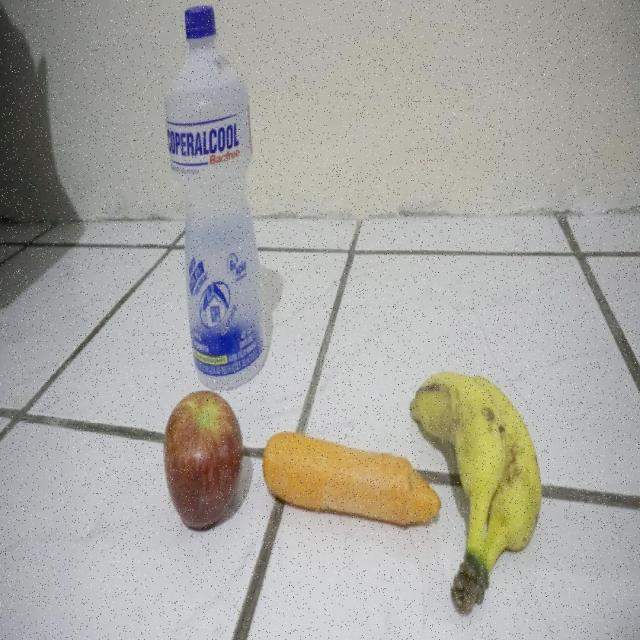AlcoholBottle: (165, 4, 271, 391)
Apple: (156, 394, 246, 532)
Banana: (436, 356, 560, 614)
Carrot: (262, 428, 436, 544)
